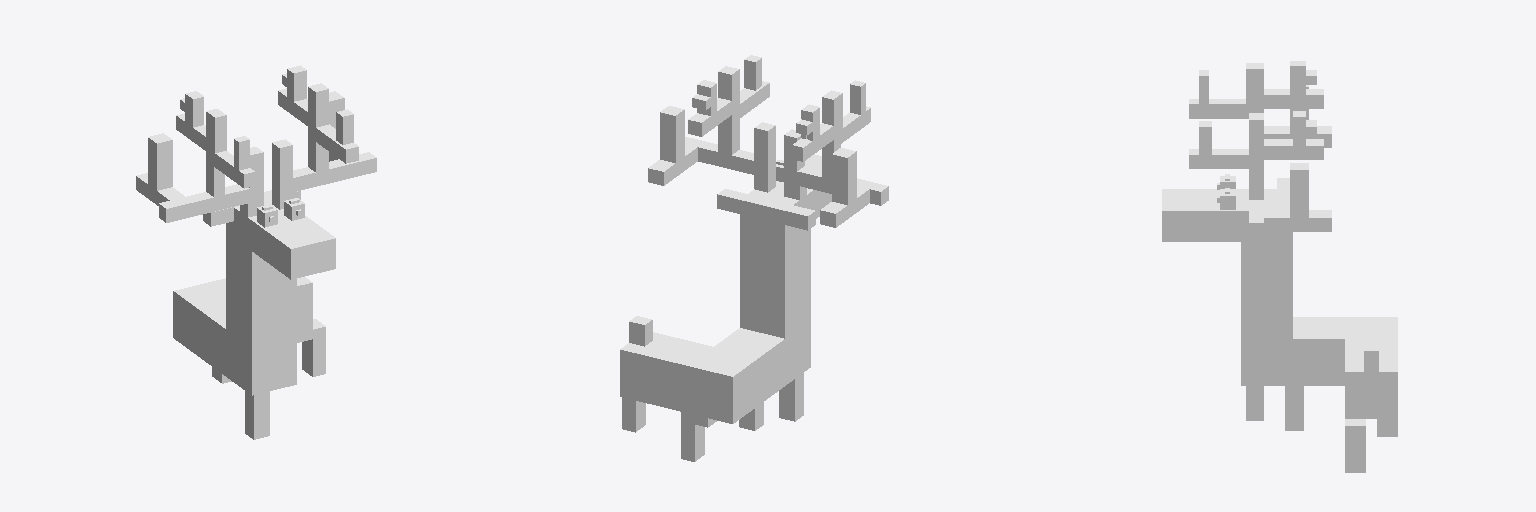
Rendered from reno.obj.
3 renders of one model, left to right at view 1: azimuth 30°, elevation 25°; view 2: azimuth 150°, elevation 25°; view 3: azimuth 270°, elevation 25°, orthographic.
Visible parts, largest first — view 1: object 1; view 2: object 1; view 3: object 1.
Part boxes in pixels (x1,y1,x2,y2): object 1: (136,65,376,439); object 1: (620,55,888,461); object 1: (1162,61,1397,472).
Bounding box in the file's own units: 9.3 × 14.1 × 9.